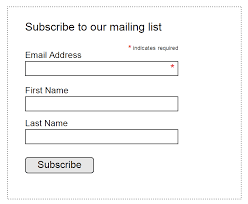button: (21, 155, 97, 176)
